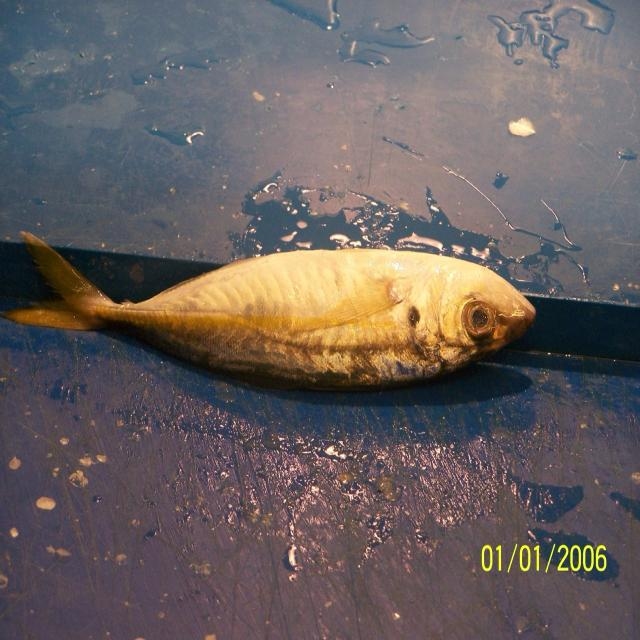Hourse-Mackerel-istavrit-: (0, 234, 536, 394)
